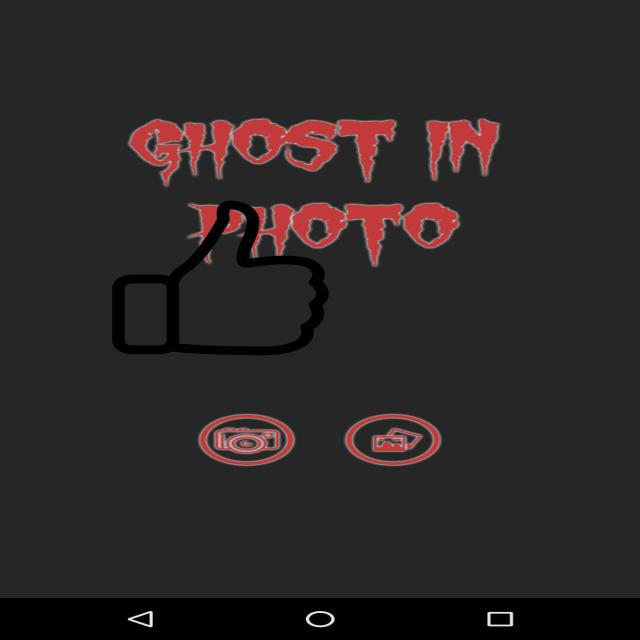privacy zuckering: (109, 201, 332, 355)
